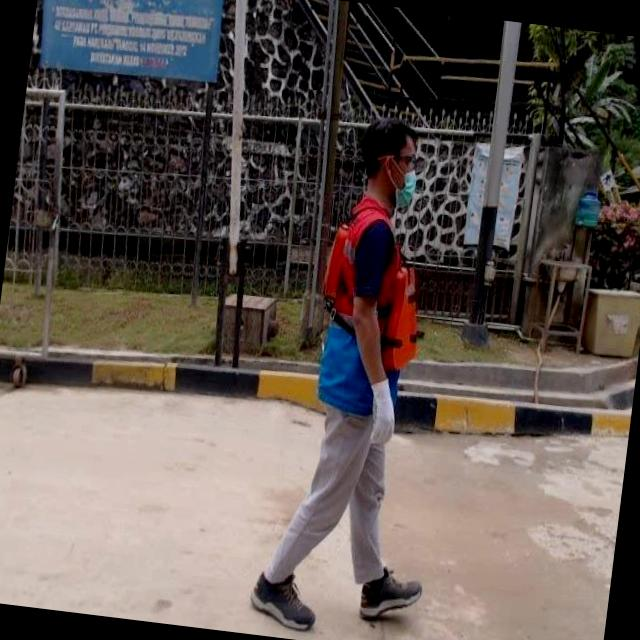vest: (308, 191, 439, 422)
